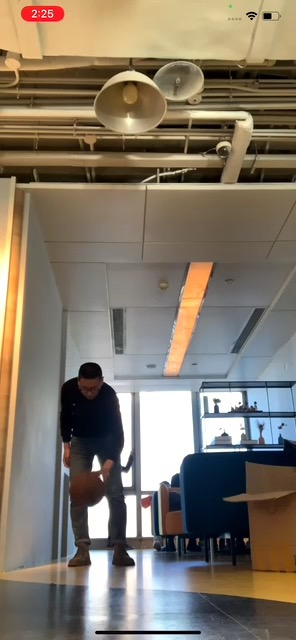ball: (70, 470, 104, 507)
